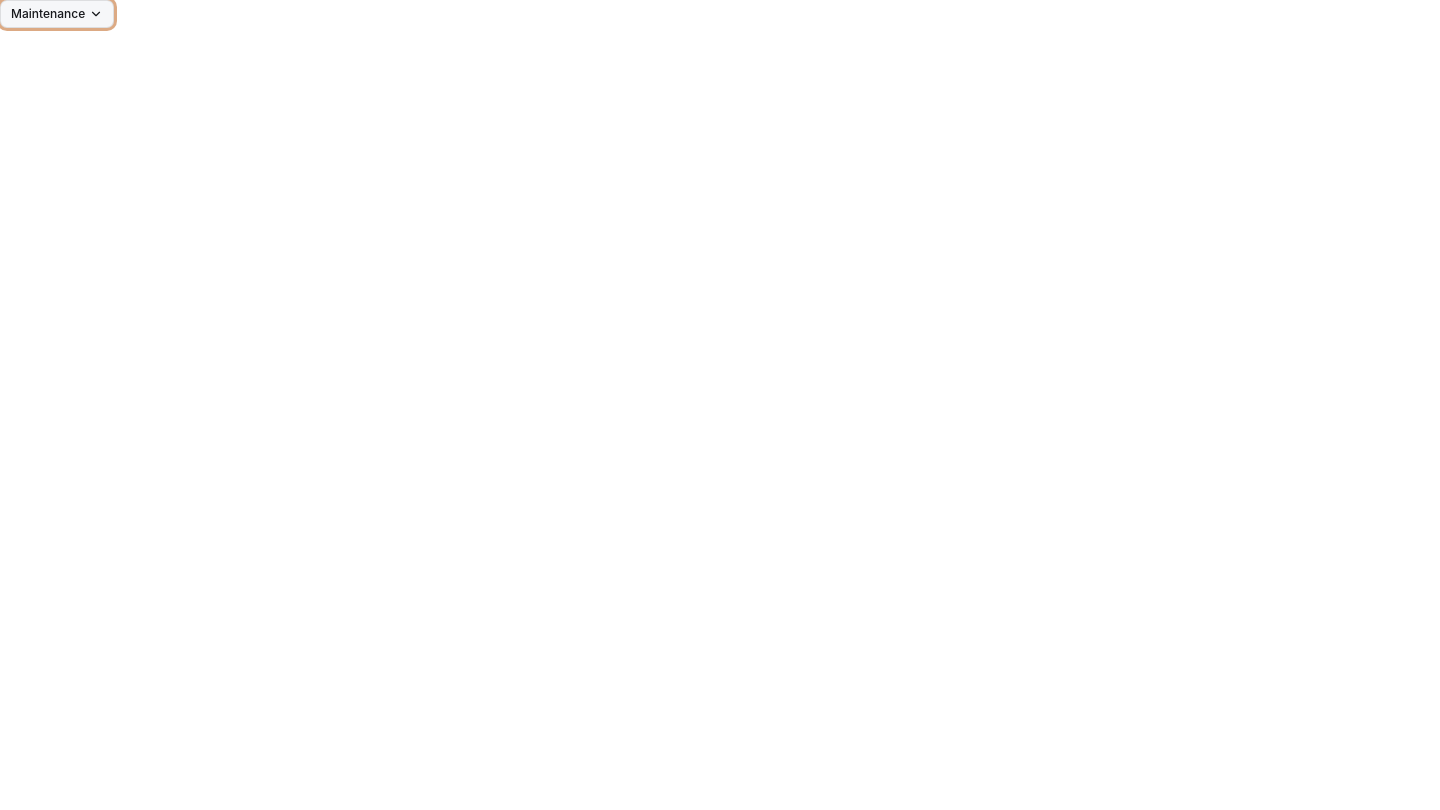
Scenario: QueueMaintenanceMenu › offers the three operations and opens the dialog of the one picked
Press Enter in the button with test id "queue-maintenance-trigger", box [0,0,114,28]
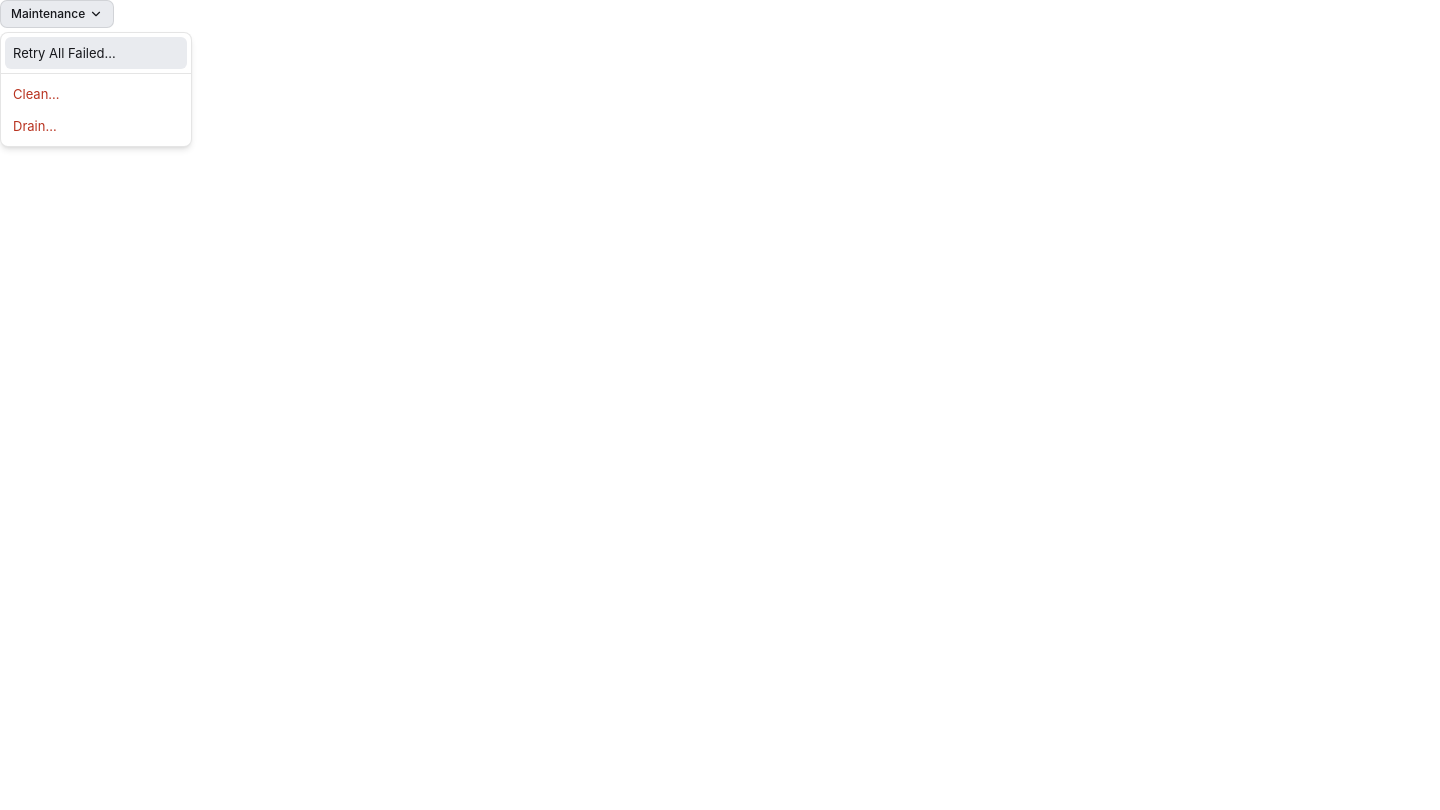
Result: the menu item with test id "queue-maintenance-retry-all" is shown at [5,37,187,69]
Result: the menu item with test id "queue-maintenance-clean" is shown at [13,86,60,102]
Click the menu item with test id "queue-maintenance-drain" at (35, 126), box [13,118,57,134]
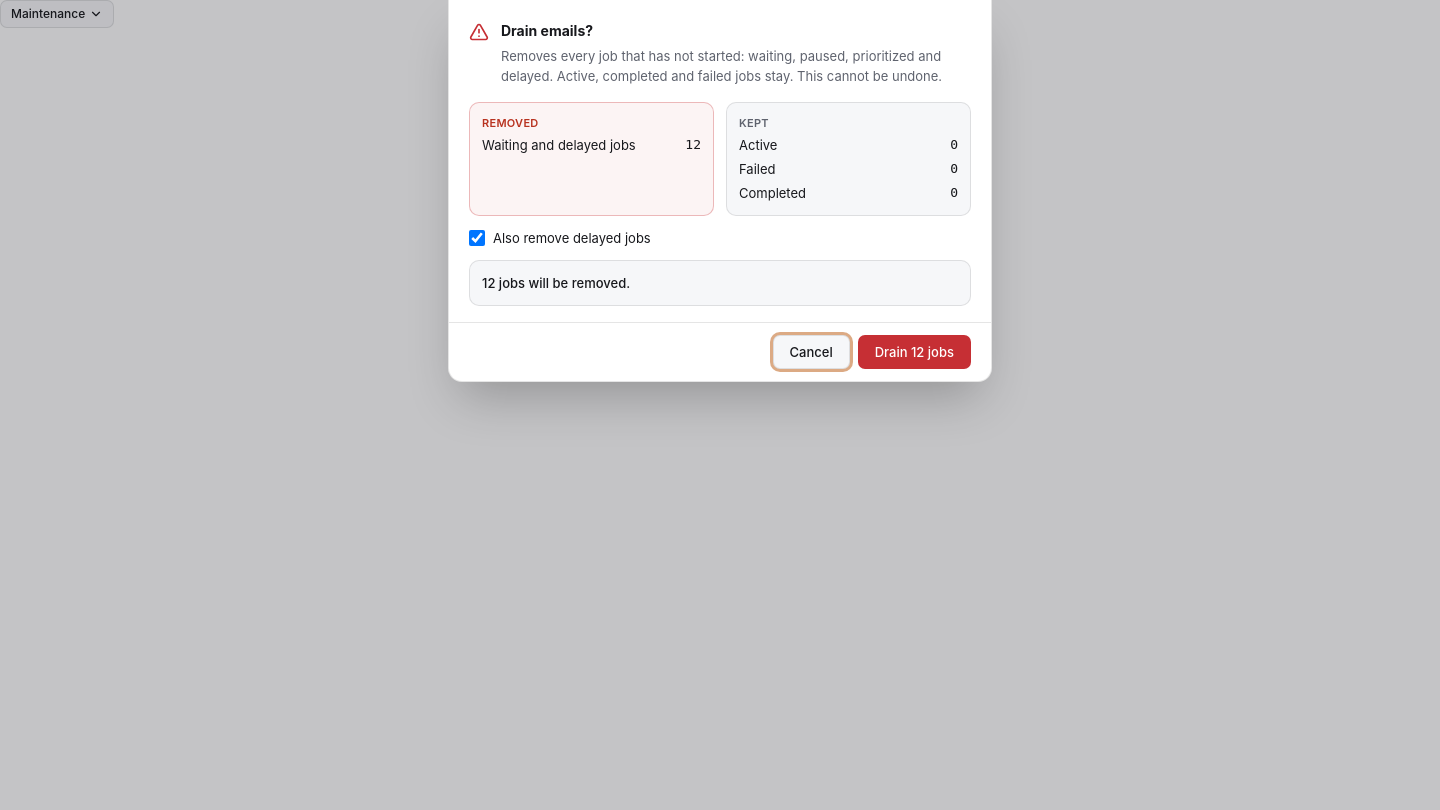
Result: the dialog with test id "queue-maintenance-dialog" shows "Drain emails" at [501,22,593,39]
